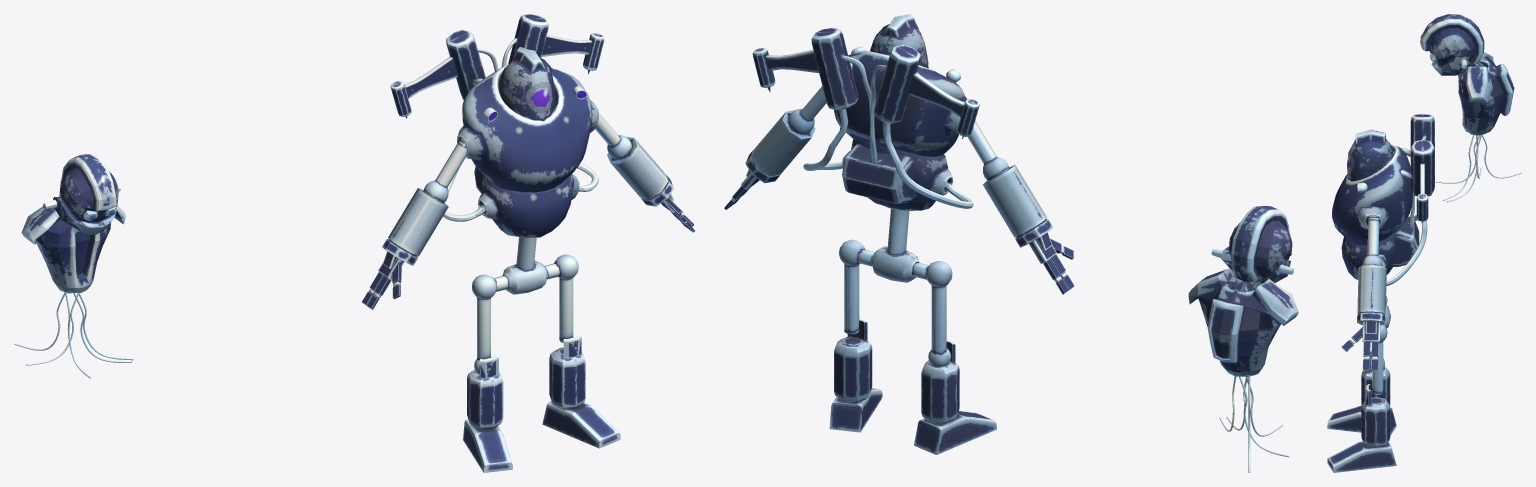
Rendered from Robots_AAAndino.fbx.
3 renders of one model, left to right at view 1: azimuth 30°, elevation 25°; view 2: azimuth 150°, elevation 25°; view 3: azimuth 270°, elevation 25°, orthographic. The views are drawn at different scales.
Parts seen in each view (by area): view 1: polySurface121, polySurface130; view 2: polySurface121, polySurface130; view 3: polySurface121, polySurface130.
Boxes of the visible parts, box(x1,y1,x2,y2) form: polySurface121: box(362, 14, 695, 472); polySurface130: box(14, 154, 133, 378); polySurface121: box(724, 14, 1074, 454); polySurface130: box(1188, 206, 1298, 472); polySurface121: box(1327, 114, 1434, 472); polySurface130: box(1420, 14, 1521, 202).
Size of the model in its own units: 13.34 by 8.34 by 4.62.
